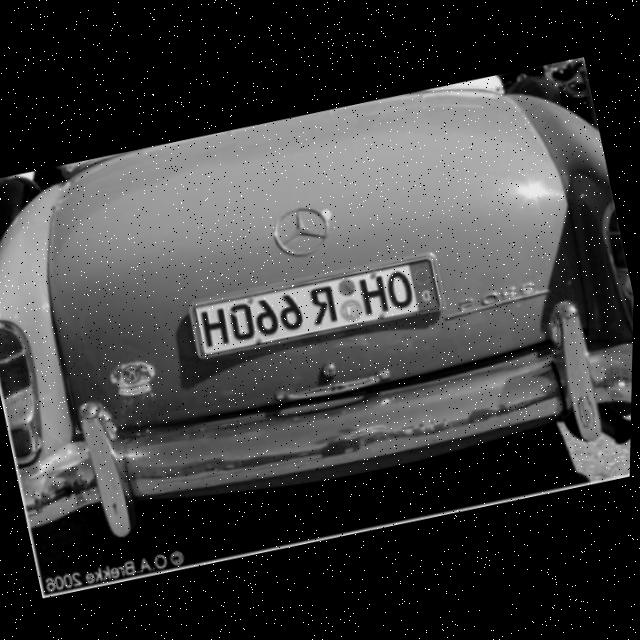license-plates: (192, 258, 441, 357)
